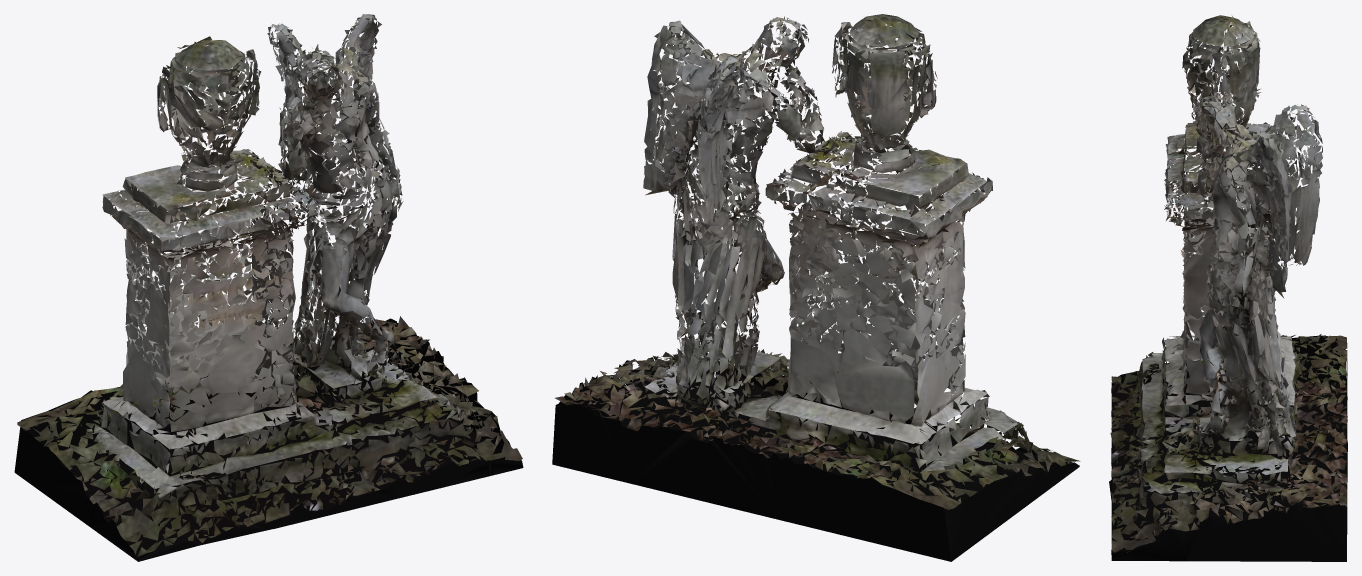
The model's file is grabengel.glb.
The picture shows the model from 3 angles, left to right: view 1: azimuth 30°, elevation 25°; view 2: azimuth 150°, elevation 25°; view 3: azimuth 270°, elevation 25°; orthographic projection. The views are drawn at different scales.
Visible parts, largest first — view 1: Object_2; view 2: Object_2; view 3: Object_2.
Part boxes in pixels (bbox=[...]): Object_2: bbox=[14, 14, 523, 561]; Object_2: bbox=[552, 14, 1080, 561]; Object_2: bbox=[1109, 15, 1347, 561].
Size of the model in its own units: 2.03 by 2.22 by 1.13.
Materials: 2 (2 with a texture image).
